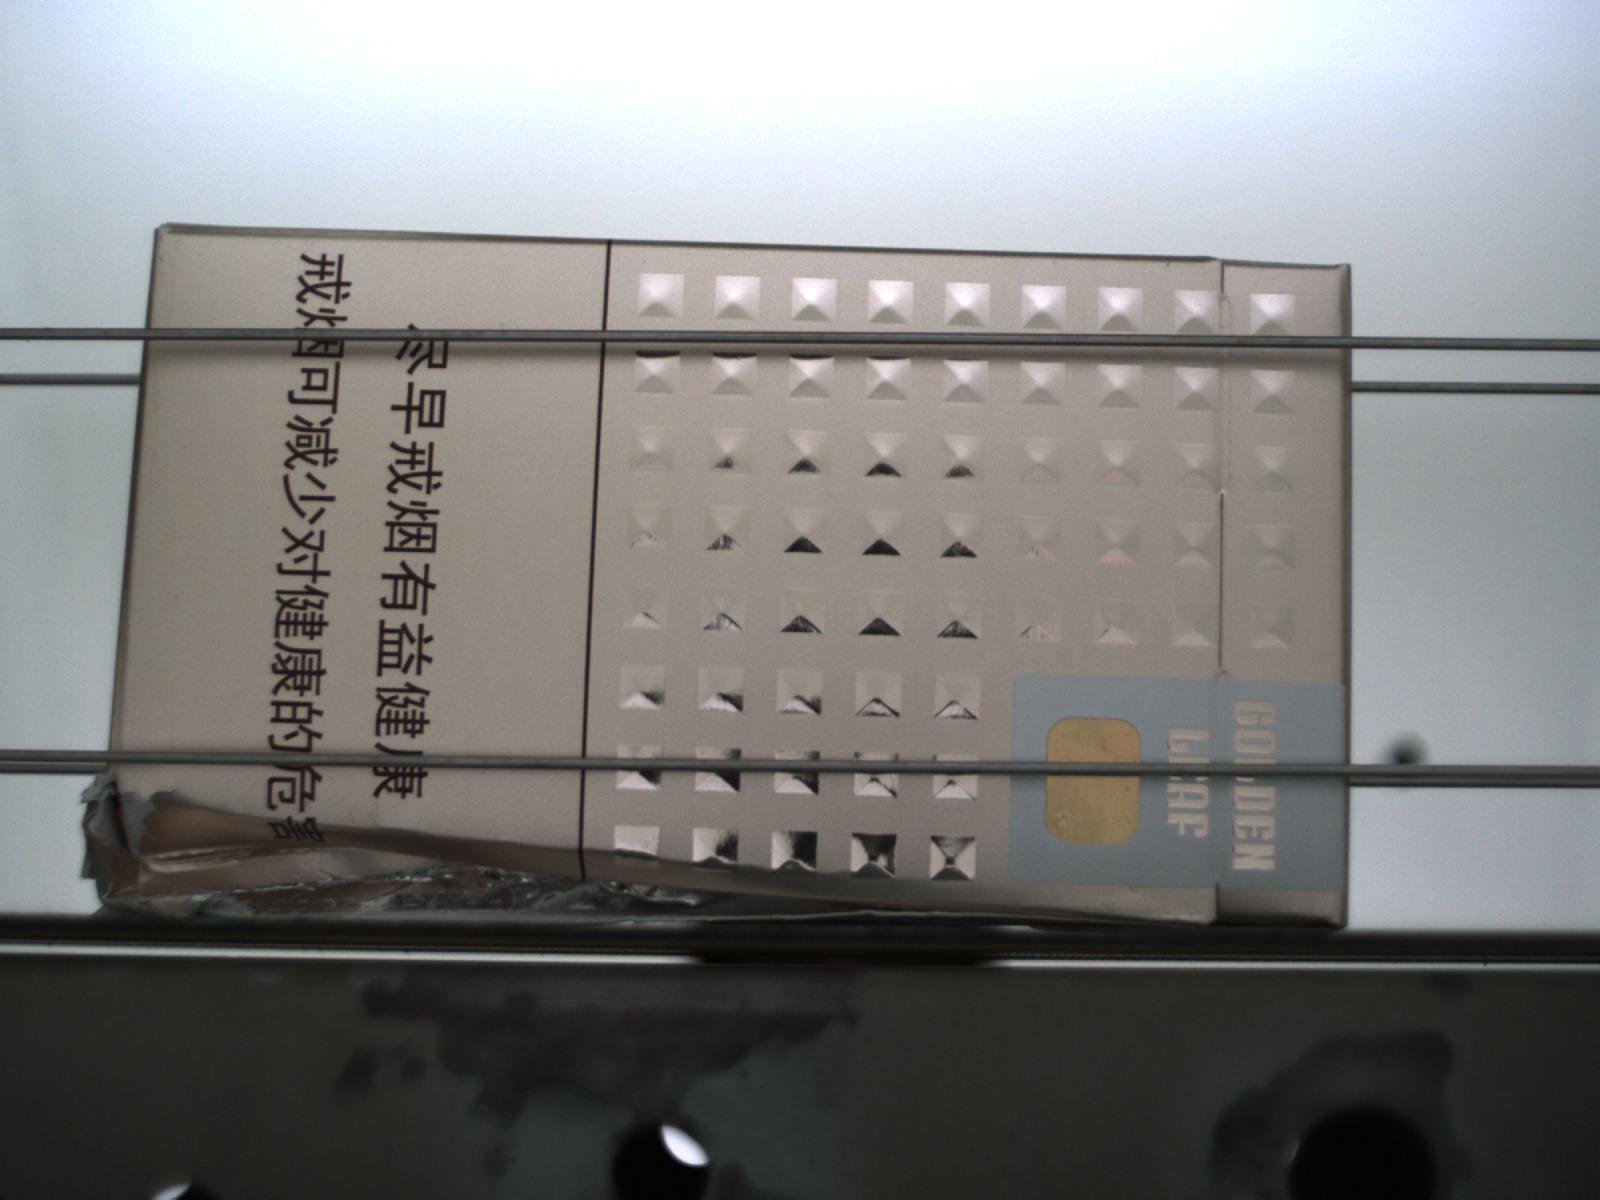dirtyScratch: (64, 771, 989, 935)
dirtySpot: (641, 258, 650, 266)
